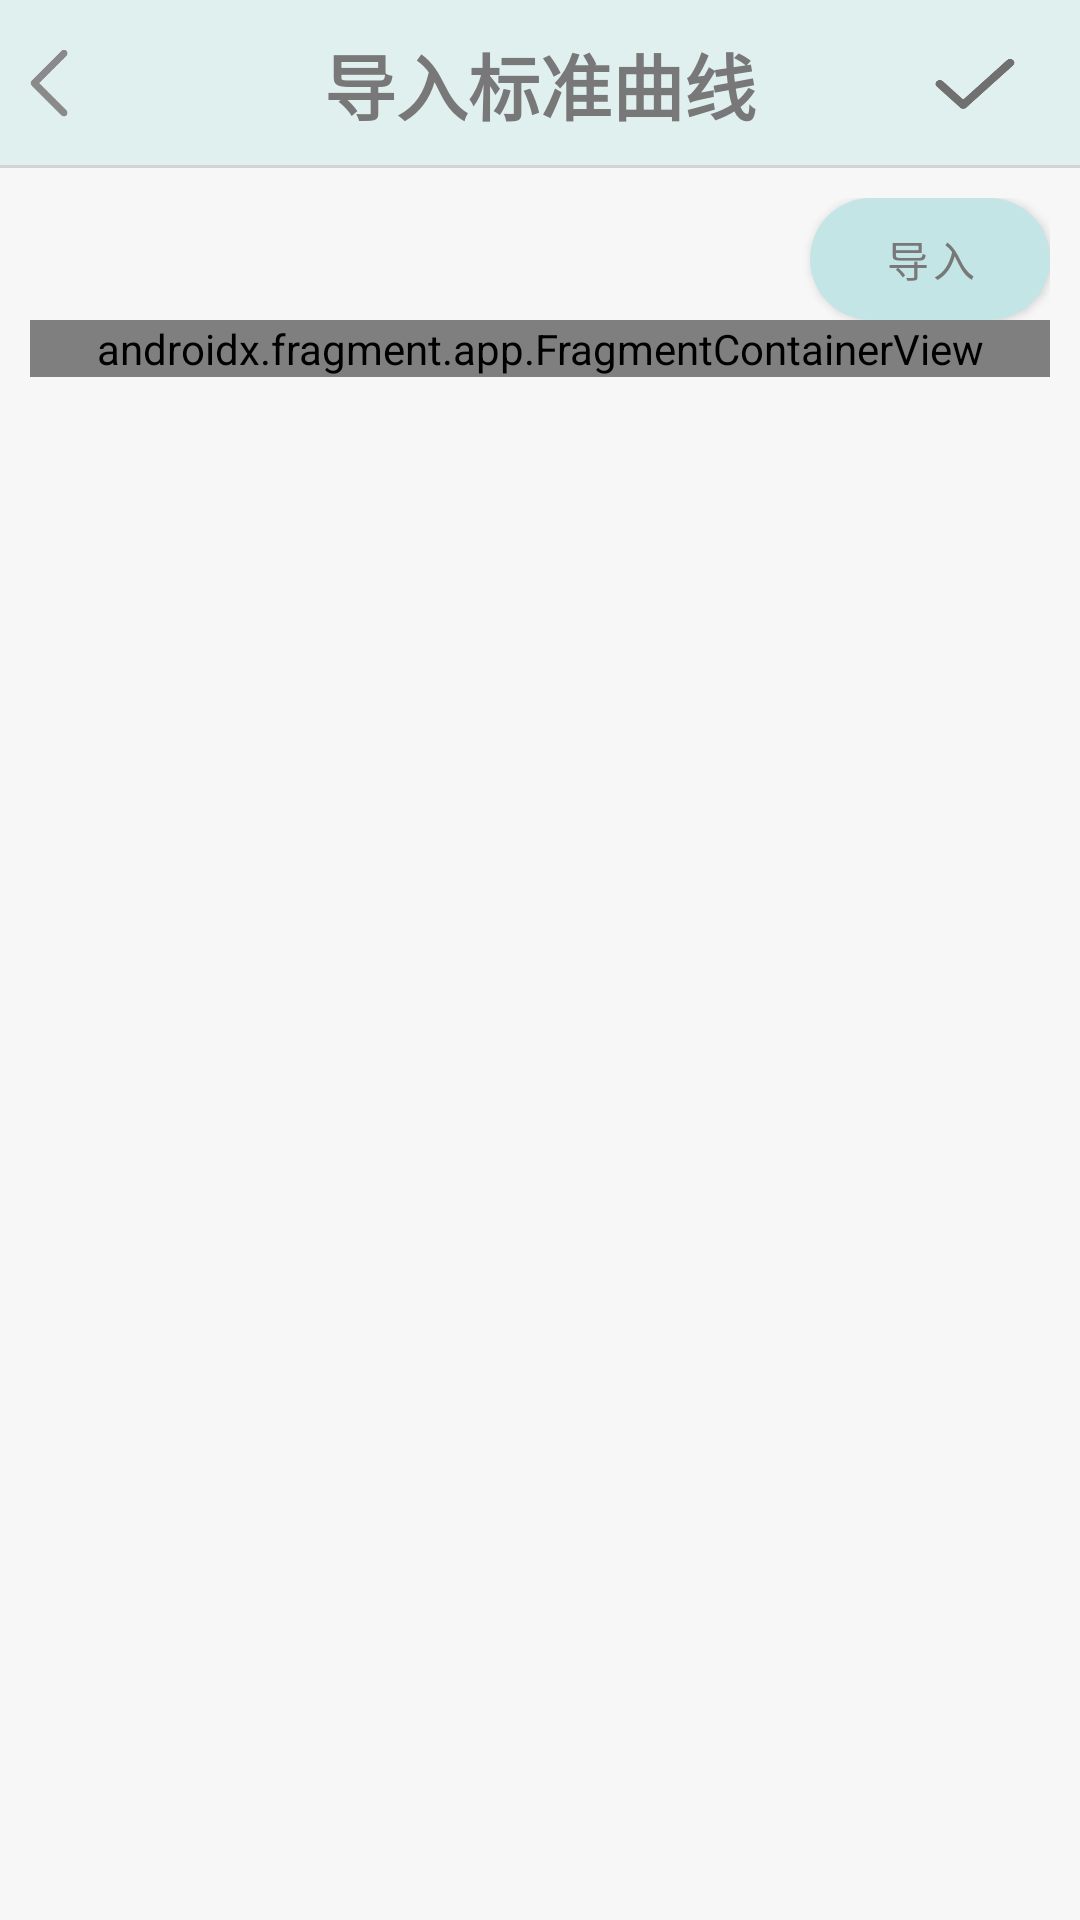

Named icons in this screenshot (1080px×1920px) and their bounding boxes, (x1, y1, x2, y2):
back: (31, 50, 68, 116)
save: (935, 59, 1015, 109)
